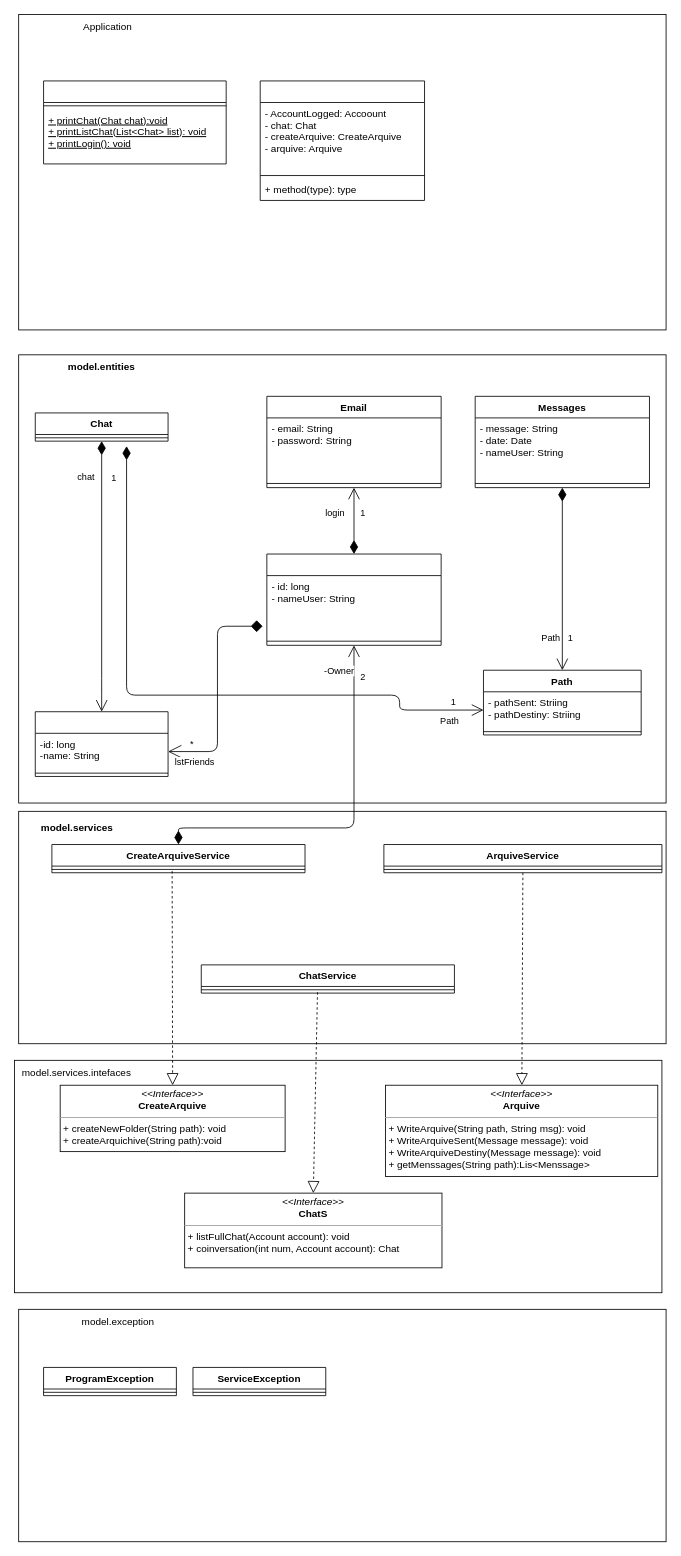
This 681x1556 diagram has some shape labels left out. Each missing label, with the box of its shape:
Account: (266, 553, 441, 645)
Friends: (34, 711, 168, 776)
Program: (259, 80, 425, 200)
UIExibition: (43, 80, 226, 164)
